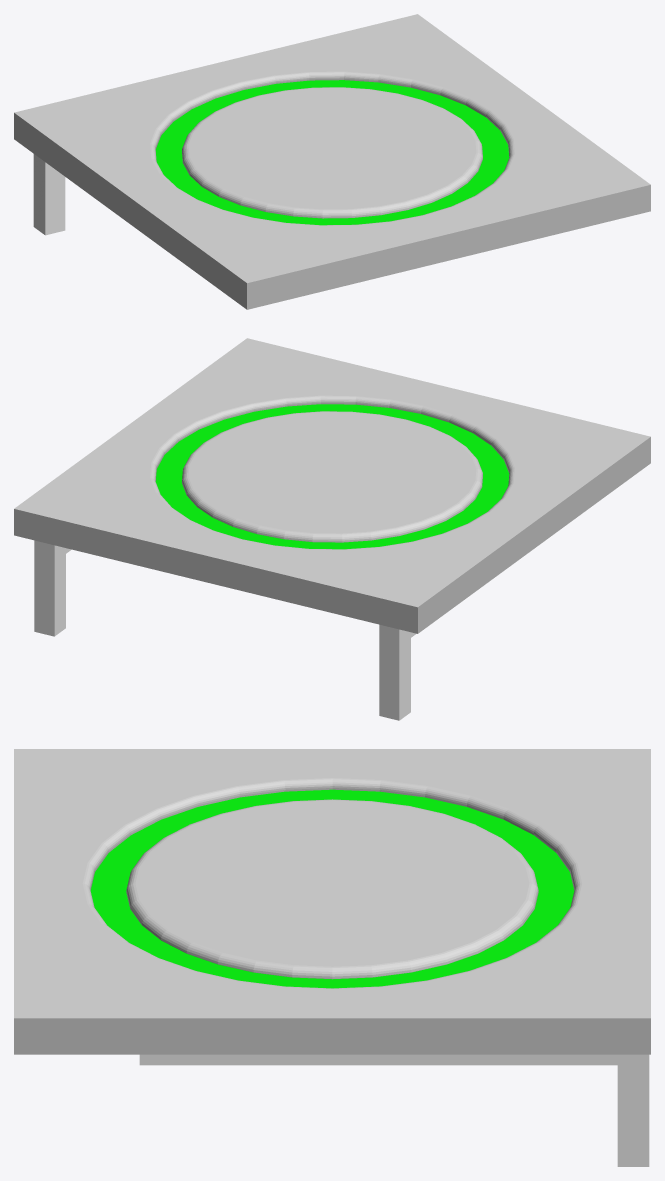
The model's file is ChargingStation.fbx.
3 renders of one model, top to bottom at view 1: azimuth 30°, elevation 25°; view 2: azimuth 150°, elevation 25°; view 3: azimuth 270°, elevation 25°, orthographic. The views are drawn at different scales.
Parts seen in each view (by area): view 1: ChargingStation, Cube.010; view 2: ChargingStation, Cube.011, Cube.010; view 3: ChargingStation, Cube.011.
Boxes of the visible parts, left/top/right/bottom form: ChargingStation: left=14, top=14, right=650, bottom=309; Cube.010: left=33, top=154, right=65, bottom=235; ChargingStation: left=14, top=338, right=650, bottom=633; Cube.011: left=34, top=540, right=71, bottom=636; Cube.010: left=379, top=624, right=416, bottom=720; ChargingStation: left=14, top=749, right=650, bottom=1054; Cube.011: left=139, top=1054, right=649, bottom=1166.
Size of the model in its own units: 317 by 89.08 by 317.
